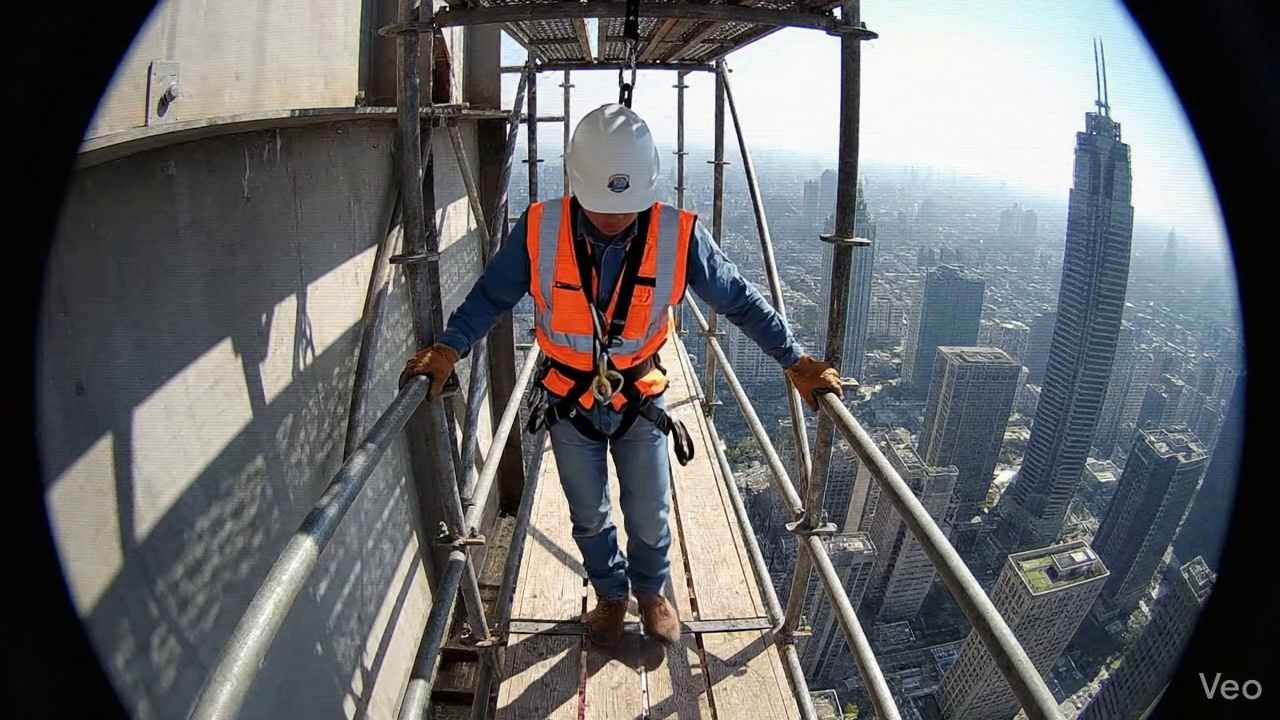person: (400, 103, 840, 643)
